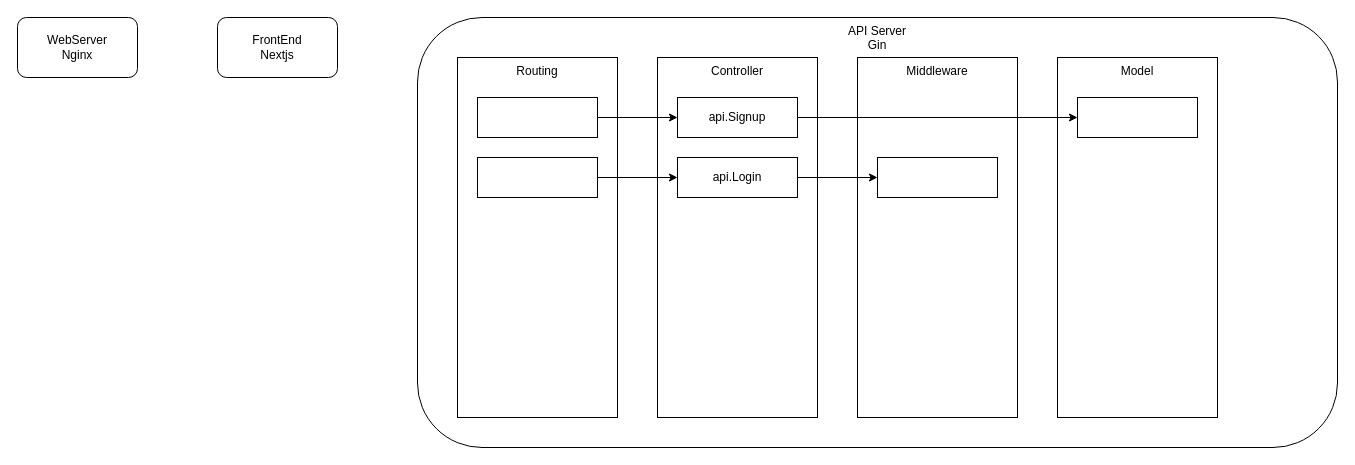
This 1355x465 diagram has some shape labels left out. The shapes that lost their labels are listed below. From the top down, each one's centre as x and y in pixels, then its label:
At point 537,117: "/signup".
At point 1137,117: "api.CreateUser".
At point 537,177: "/login".
At point 937,177: "api.AuthMiddleWare. LoginHandler".
